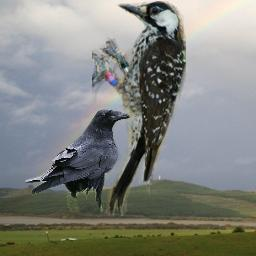Crow: (24, 109, 130, 212)
Woodpecker: (92, 1, 186, 216)
